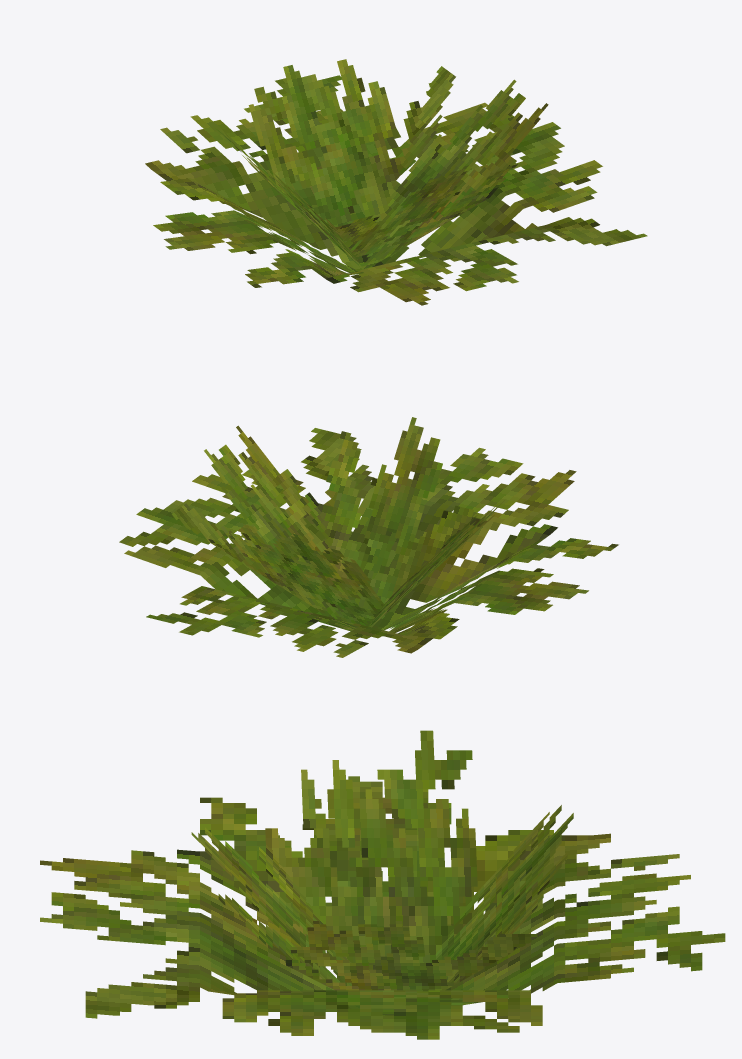
The model's file is hasl_xiaocao_02.FBX.
3 renders of one model, top to bottom at view 1: azimuth 30°, elevation 25°; view 2: azimuth 150°, elevation 25°; view 3: azimuth 270°, elevation 25°, orthographic. The views are drawn at different scales.
Parts seen in each view (by area): view 1: hasl_xiaocao_02; view 2: hasl_xiaocao_02; view 3: hasl_xiaocao_02.
Boxes of the visible parts, left/top/right/bottom form: hasl_xiaocao_02: left=145, top=59, right=647, bottom=305; hasl_xiaocao_02: left=119, top=417, right=618, bottom=657; hasl_xiaocao_02: left=40, top=730, right=725, bottom=1039.
Size of the model in its own units: 79.75 by 28.37 by 87.5.
